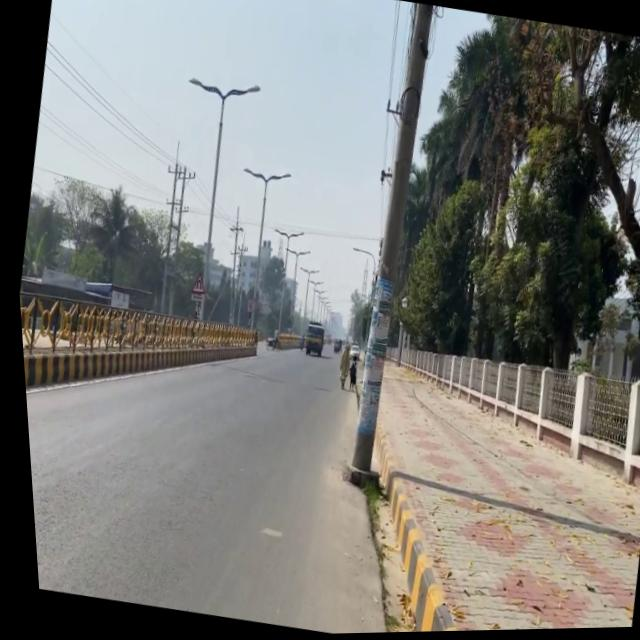Construction-barrier: (333, 425, 493, 635)
Fallen-tree: (259, 336, 273, 352)
Garbage-bin: (338, 357, 355, 392)
Light-pole: (315, 1, 458, 484)
Pole: (14, 272, 231, 429)
Pothole: (328, 353, 640, 635)
Traffic-cone: (296, 322, 322, 358)
